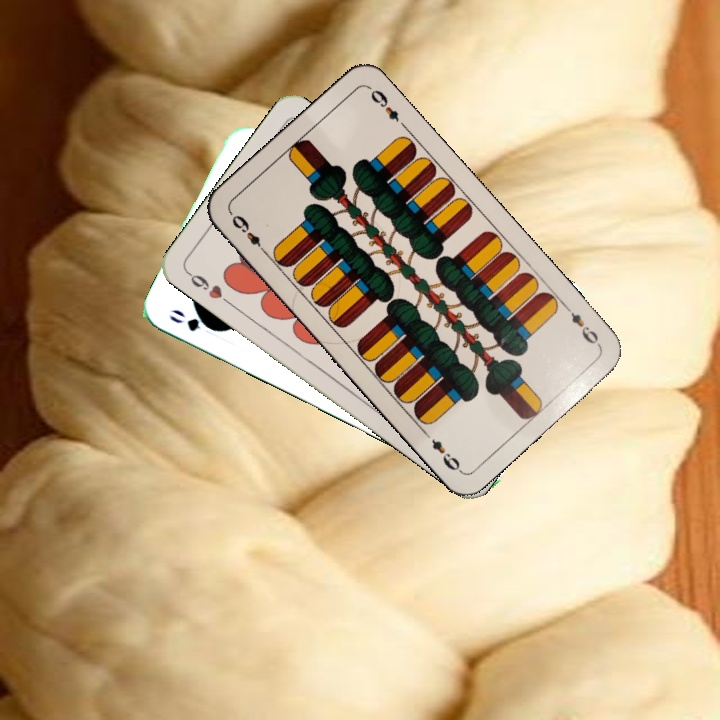E9: (559, 300, 603, 349), (227, 210, 270, 258)
GO: (165, 305, 223, 335)
H9: (182, 267, 233, 307)
